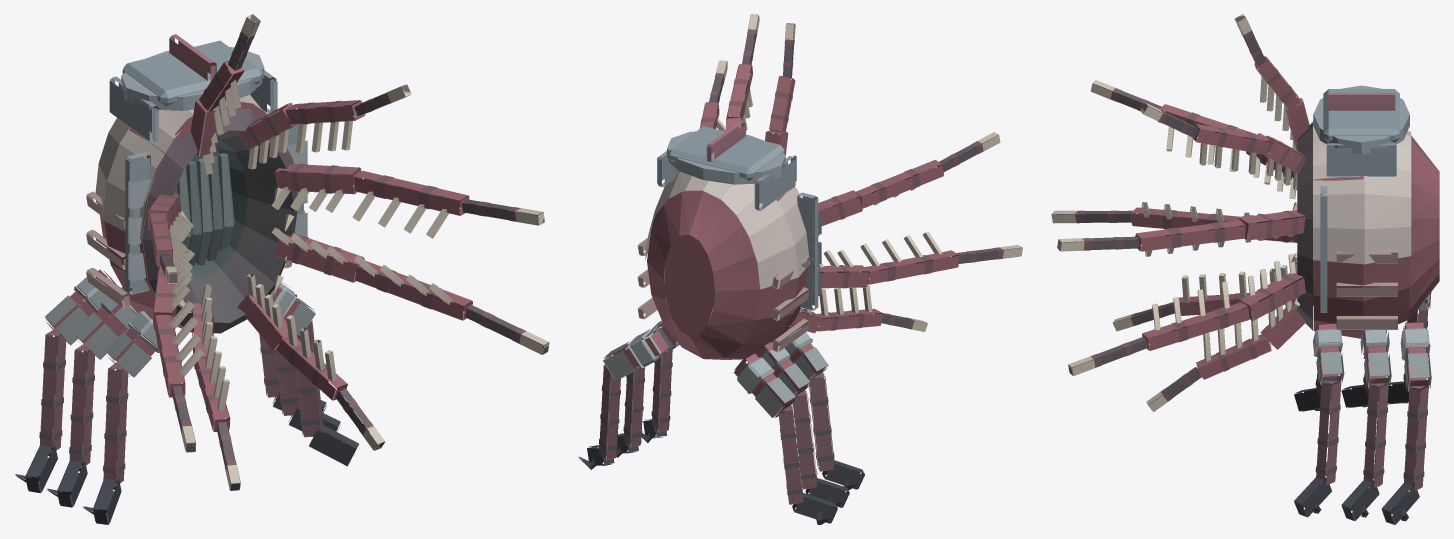
The model's file is AdaptedVisceraKnight.glb.
3 renders of one model, left to right at view 1: azimuth 30°, elevation 25°; view 2: azimuth 150°, elevation 25°; view 3: azimuth 270°, elevation 25°, orthographic. The views are drawn at different scales.
Parts seen in each view (by area): view 1: Body, LegR, ArmR, ArmL, LegL; view 2: Body, LegR, LegL, ArmR, ArmL; view 3: Body, LegL, ArmL, LegR, ArmR.
Part boxes in pixels (left/top/right/bottom): Body: left=46, top=14, right=549, bottom=507; LegR: left=15, top=269, right=116, bottom=493; ArmR: left=82, top=307, right=159, bottom=524; ArmL: left=269, top=284, right=358, bottom=466; LegL: left=259, top=334, right=326, bottom=415; Body: left=616, top=14, right=1022, bottom=508; LegR: left=734, top=353, right=837, bottom=524; LegL: left=578, top=329, right=668, bottom=469; ArmR: left=779, top=324, right=864, bottom=490; ArmL: left=641, top=344, right=679, bottom=442; Body: left=1051, top=14, right=1439, bottom=520; LegL: left=1381, top=321, right=1431, bottom=524; ArmL: left=1294, top=323, right=1344, bottom=516; LegR: left=1387, top=292, right=1431, bottom=404; ArmR: left=1294, top=373, right=1331, bottom=411.
Bounding box in the file's own units: 8.02 × 10.39 × 8.25.
